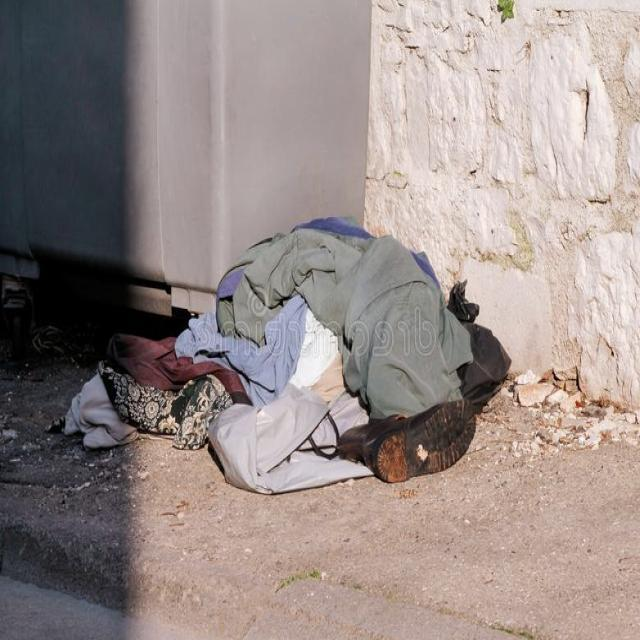clothes: (98, 238, 476, 469)
